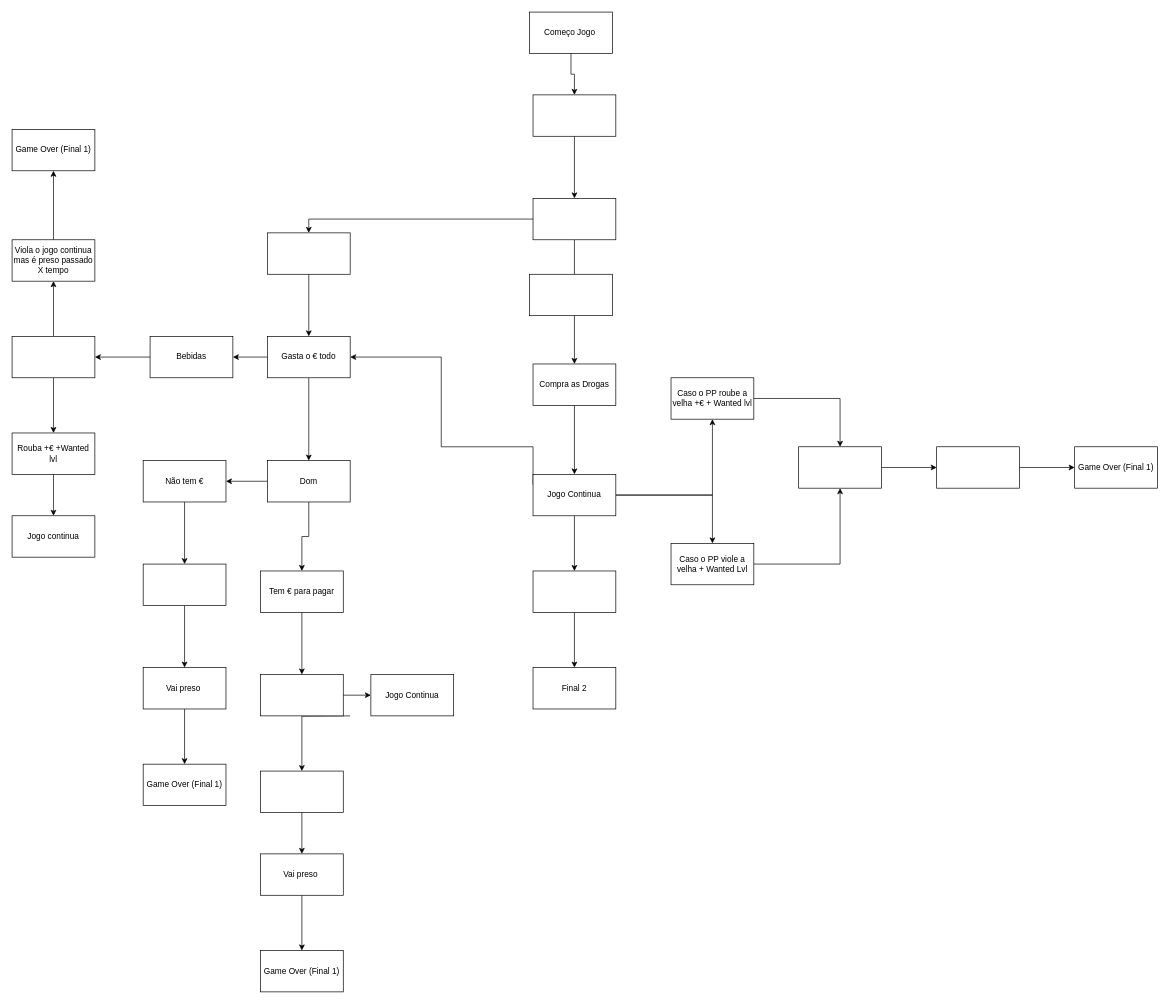
This 1170x1004 diagram has some shape labels left out. The shapes that lost their labels are listed below. From the top down, each one's box as (x1, y1, x2, y2) in pixels, then its label:
(532, 94, 616, 136): Bar
(532, 198, 616, 240): Macaco dá lhe a dica de como proseguir
(267, 232, 350, 274): Não segue a dica
(529, 274, 612, 316): Segue a Dica
(11, 336, 95, 378): Encontra a velha e pode violar ou roubar
(798, 446, 881, 488): Wanted Lvl demasiado alto
(936, 446, 1019, 488): Preso
(142, 563, 226, 605): Rape do Reginaldo
(532, 570, 616, 612): O jogador consegue chegar ao final do jogo sem perder
(260, 674, 343, 716): Caso tenha Drogas para vender +€
(260, 770, 343, 812): Caso não tenha ao tentar comprar algo
